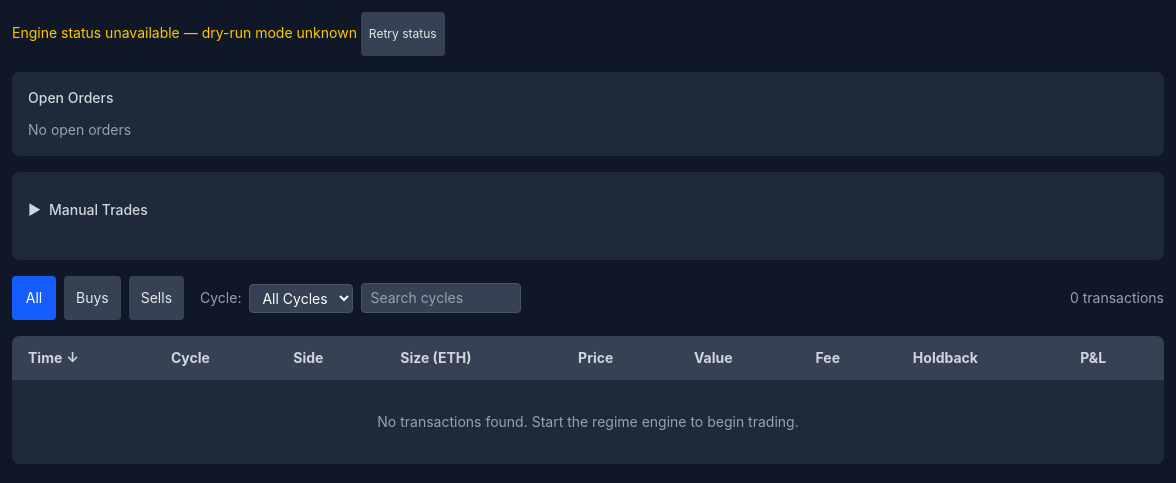
Test: transactions shows an unknown dry-run notice for a failed status read and recovers on Retry
Check: the message shows "Engine status unavailable — dry-run mode unknown", box [12,24,357,41]
Check: the text "Viewing dry-run simulated transactions" is not shown
What coordinates should you click on to do the following:
click the button "Retry status"
I would click on:
 (403, 34)
Its box is [361,12,445,56].
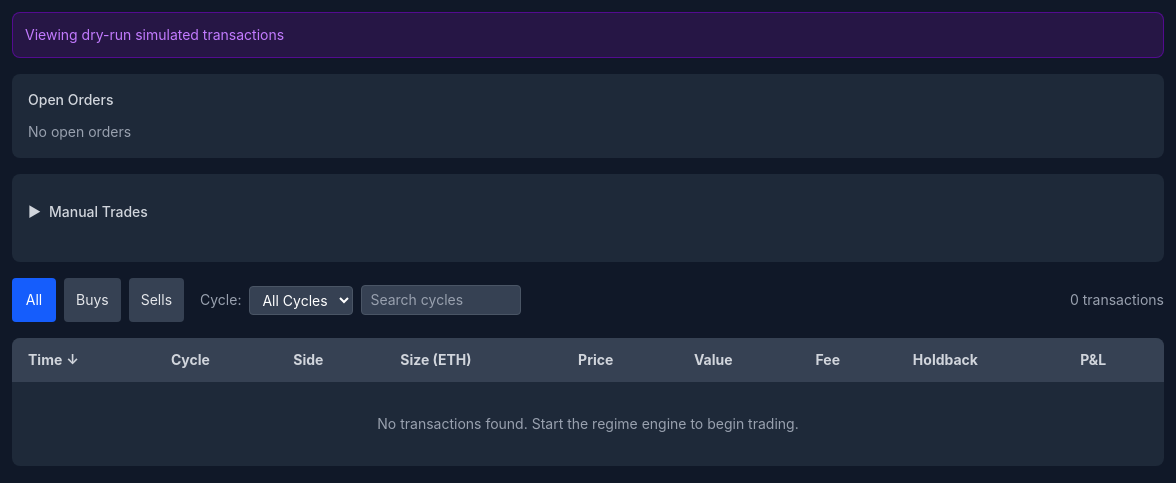
Check: the text "Viewing dry-run simulated transactions" is shown, box [12,12,1164,58]
Check: the text "Engine status unavailable" is gone
